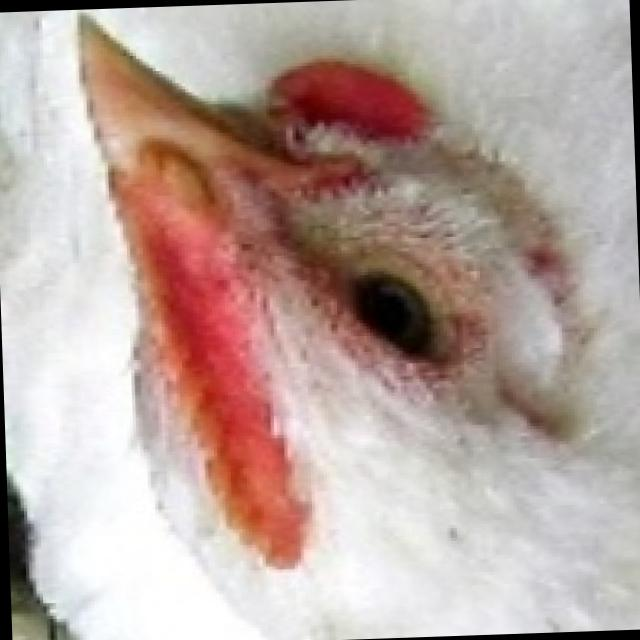Healthy: (75, 0, 640, 640)
